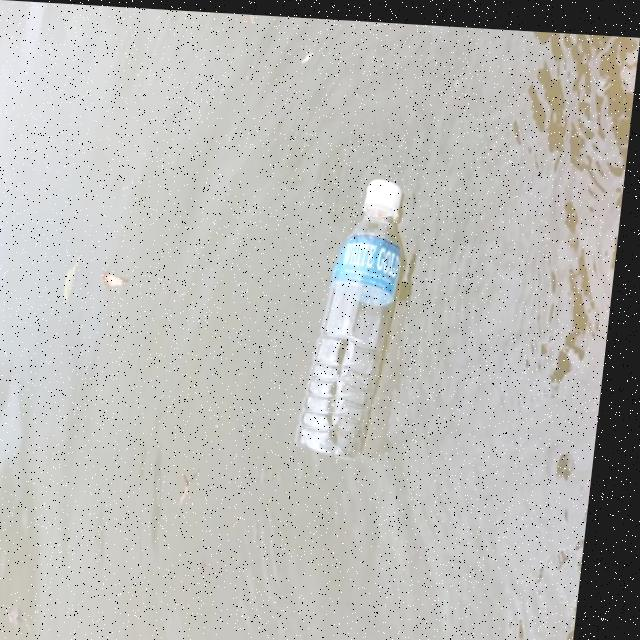waterbottle: (295, 159, 430, 469)
